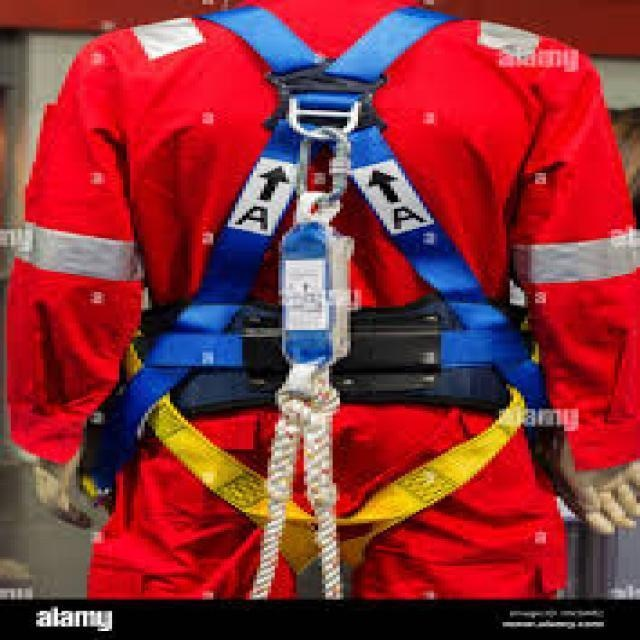Arnes_seguridad: (74, 3, 579, 576)
